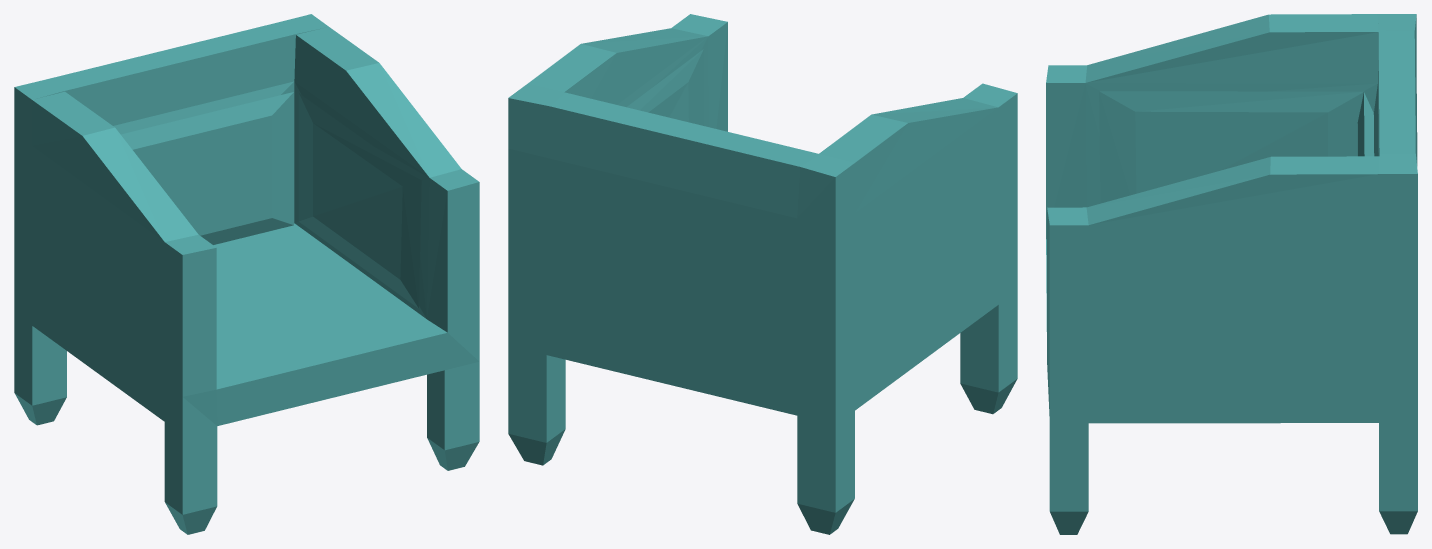
File: Exsport_Chair_Unit_03.fbx
3 renders of one model, left to right at view 1: azimuth 30°, elevation 25°; view 2: azimuth 150°, elevation 25°; view 3: azimuth 270°, elevation 25°, orthographic. The views are drawn at different scales.
Visible parts, largest first — view 1: pCube1; view 2: pCube1; view 3: pCube1.
Part boxes in pixels (left/top/right/bottom): pCube1: left=14, top=14, right=479, bottom=534; pCube1: left=508, top=14, right=1017, bottom=534; pCube1: left=1046, top=14, right=1417, bottom=534.
Bounding box in the file's own units: 2.6 × 2.77 × 2.55.
